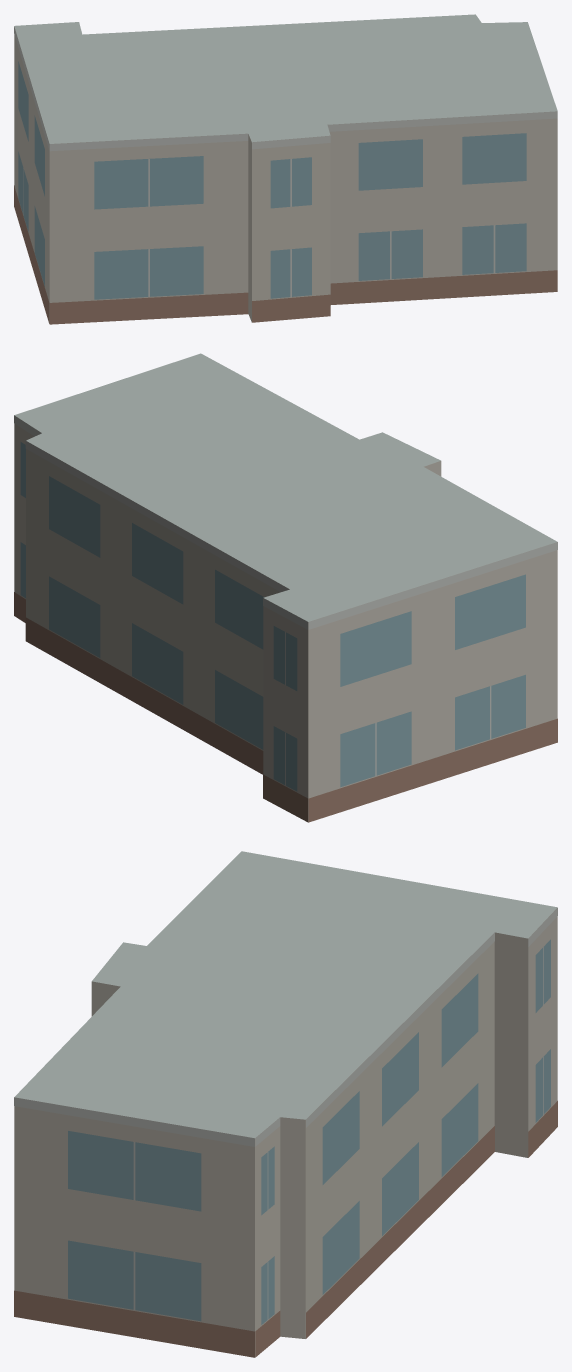
Rendered from survey-upis-32539411.glb.
The picture shows the model from 3 angles, top to bottom: view 1: azimuth 30°, elevation 25°; view 2: azimuth 150°, elevation 25°; view 3: azimuth 270°, elevation 25°; orthographic projection. The views are drawn at different scales.
Parts seen in each view (by area): view 1: survey-upis-32539411.tmp; view 2: survey-upis-32539411.tmp; view 3: survey-upis-32539411.tmp.
Boxes of the visible parts, bbox=[...] form: survey-upis-32539411.tmp: bbox=[14, 14, 557, 324]; survey-upis-32539411.tmp: bbox=[14, 353, 557, 822]; survey-upis-32539411.tmp: bbox=[14, 851, 557, 1357].
Size of the model in its own units: 17.12 by 6.1 by 13.7.
